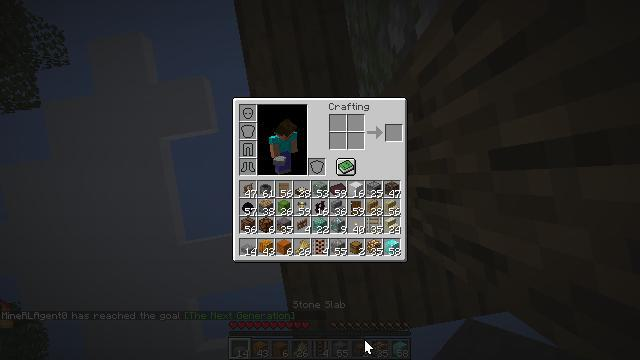cursor: (364, 339, 374, 355)
